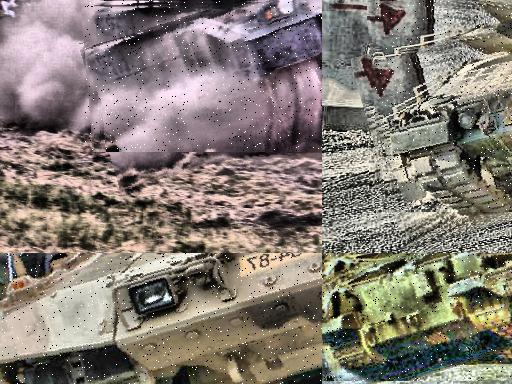tanks: (1, 254, 323, 384), (86, 2, 323, 152), (376, 19, 512, 212), (323, 254, 512, 382)
